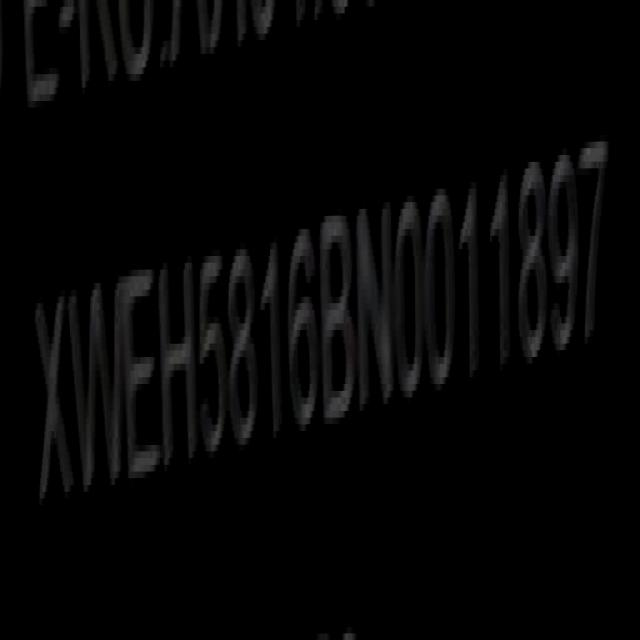0: (426, 175, 460, 403), (397, 185, 428, 410)
1: (488, 155, 514, 387), (455, 164, 481, 391), (261, 231, 286, 455)
5: (196, 244, 228, 470)
6: (289, 216, 323, 444)
7: (581, 125, 612, 358)
8: (227, 241, 258, 459), (520, 151, 550, 374)
9: (551, 145, 582, 362)
B: (320, 200, 356, 430)
E: (124, 262, 162, 494)
H: (158, 261, 201, 469)
N: (355, 188, 396, 420)
W: (70, 269, 126, 509)
X: (35, 284, 73, 518)
